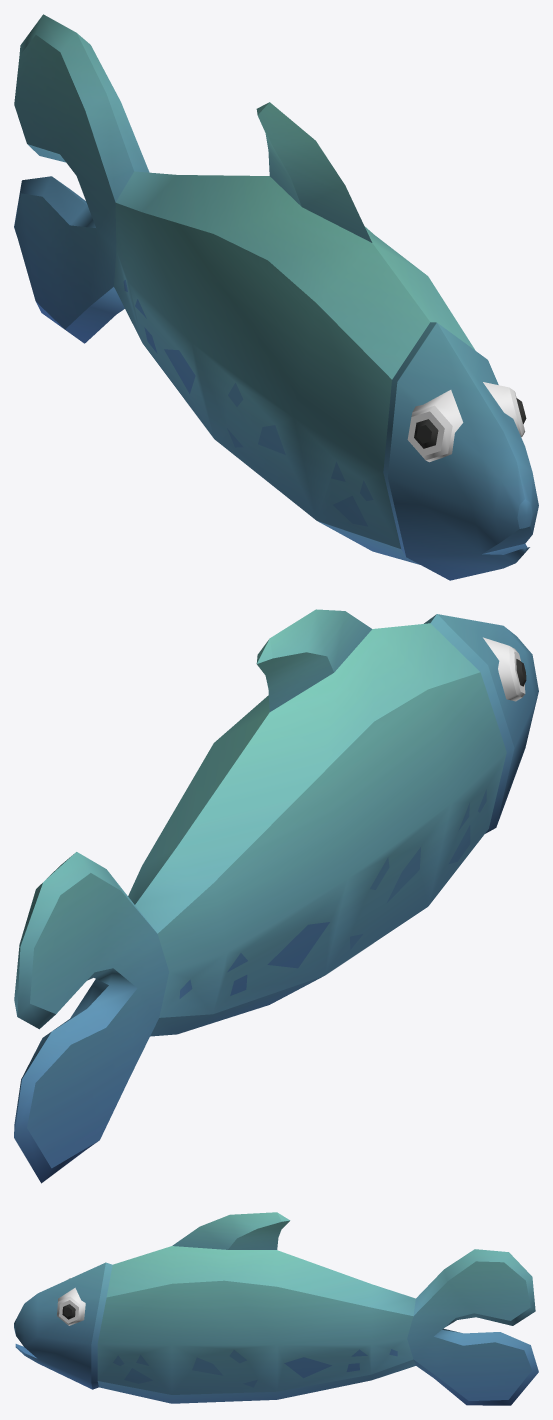
File: Fish_1_A.glb
3 renders of one model, top to bottom at view 1: azimuth 30°, elevation 25°; view 2: azimuth 150°, elevation 25°; view 3: azimuth 270°, elevation 25°, orthographic. The views are drawn at different scales.
Parts seen in each view (by area): view 1: Fish_1_A; view 2: Fish_1_A; view 3: Fish_1_A.
Part boxes in pixels (<box>): Fish_1_A: <box>14,14,538,580</box>; Fish_1_A: <box>14,609,538,1183</box>; Fish_1_A: <box>14,1212,538,1405</box>.
Bounding box in the file's own units: 0.1032 × 0.2362 × 0.5807.
1 material, 1 textured.
